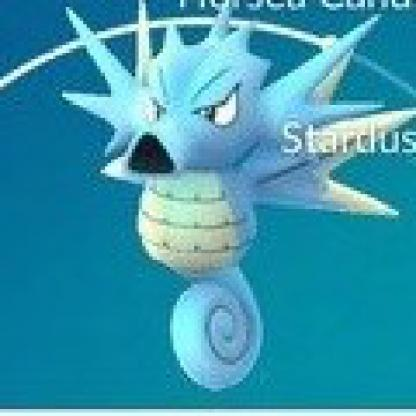Seadra: (57, 1, 403, 404)
